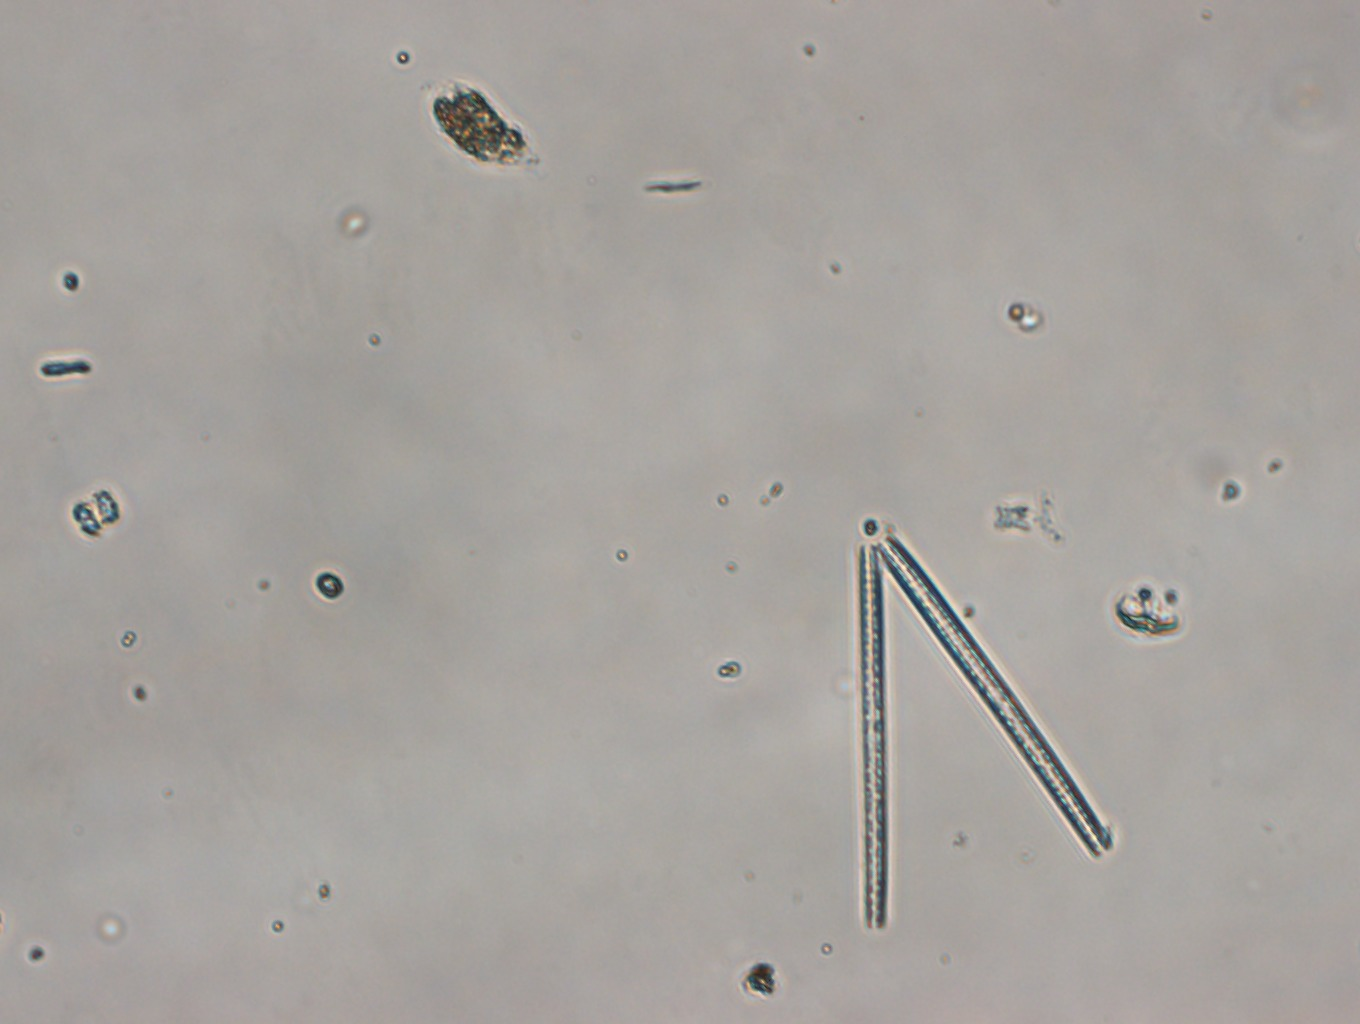thalassionema frauenfeldii: (846, 526, 1118, 935)
